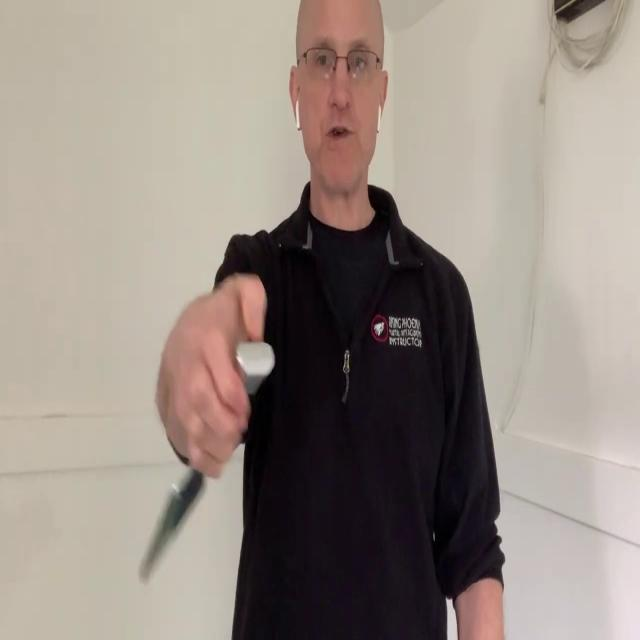Knife_Handle: (139, 272, 275, 583)
